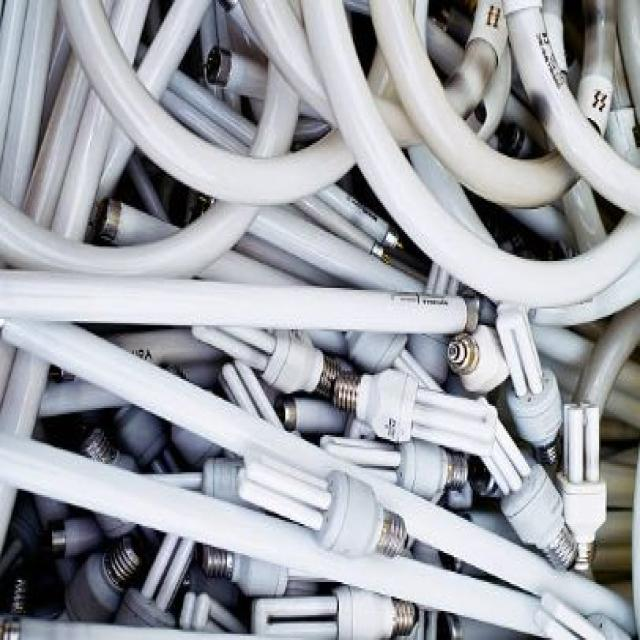electronic: (0, 0, 638, 638), (445, 331, 479, 375)
